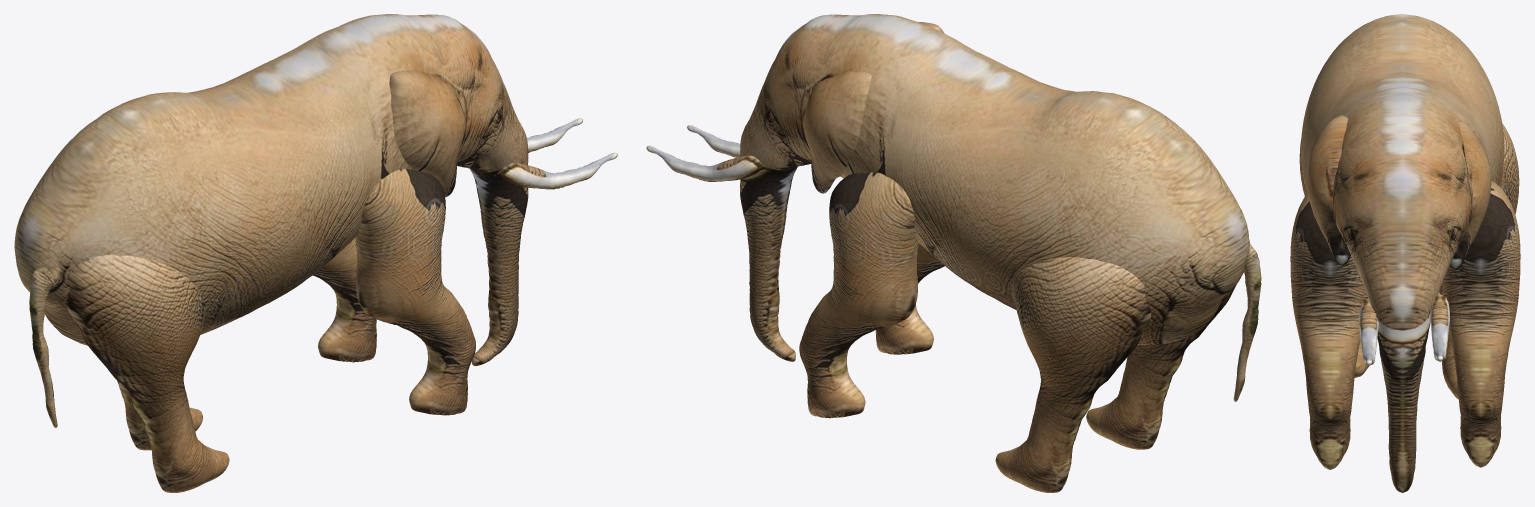
File: elephant.glb
3 views of the same model, side by side, from view 1: azimuth 30°, elevation 25°; view 2: azimuth 150°, elevation 25°; view 3: azimuth 270°, elevation 25° (orthographic). The views are drawn at different scales.
Parts seen in each view (by area): view 1: Mesh_0; view 2: Mesh_0; view 3: Mesh_0.
Boxes of the visible parts, x1,y1,x2,y2 form: Mesh_0: (14,14,617,492); Mesh_0: (646,14,1261,492); Mesh_0: (1290,14,1520,492).
Bounding box in the file's own units: 8.25 × 5.42 × 2.98.
Materials: 1 (1 with a texture image).
